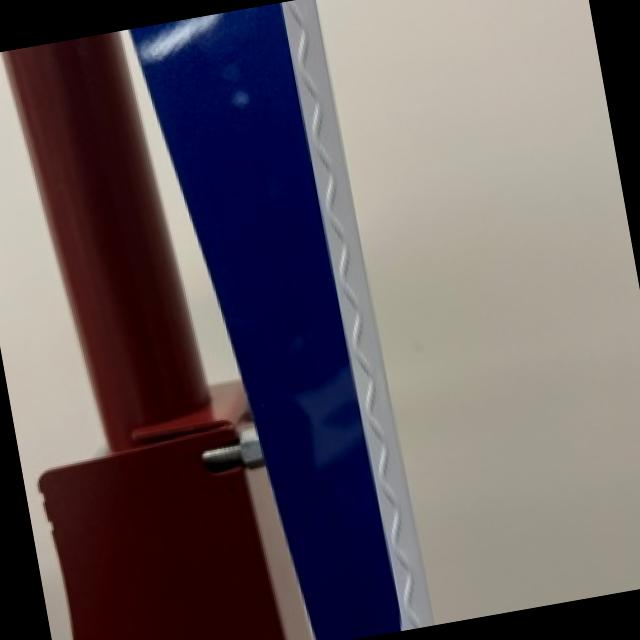healthy: (6, 30, 305, 640)
